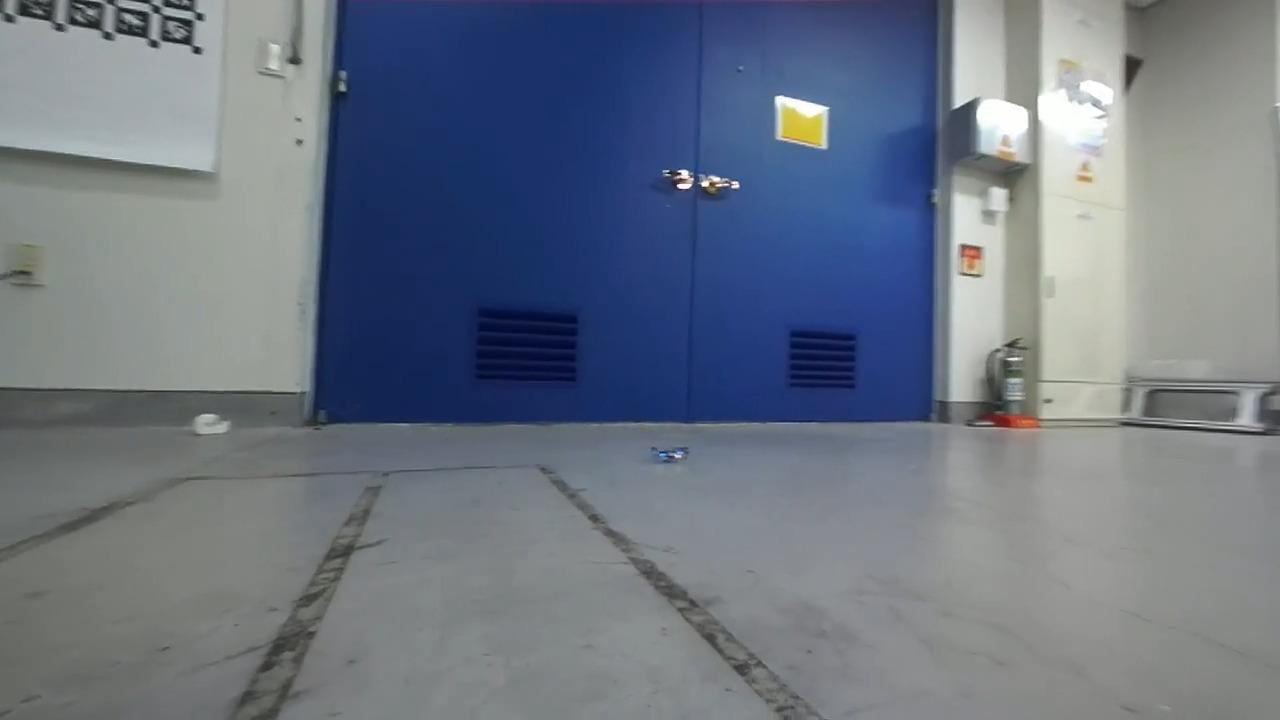crazyflie: (646, 438, 696, 468)
